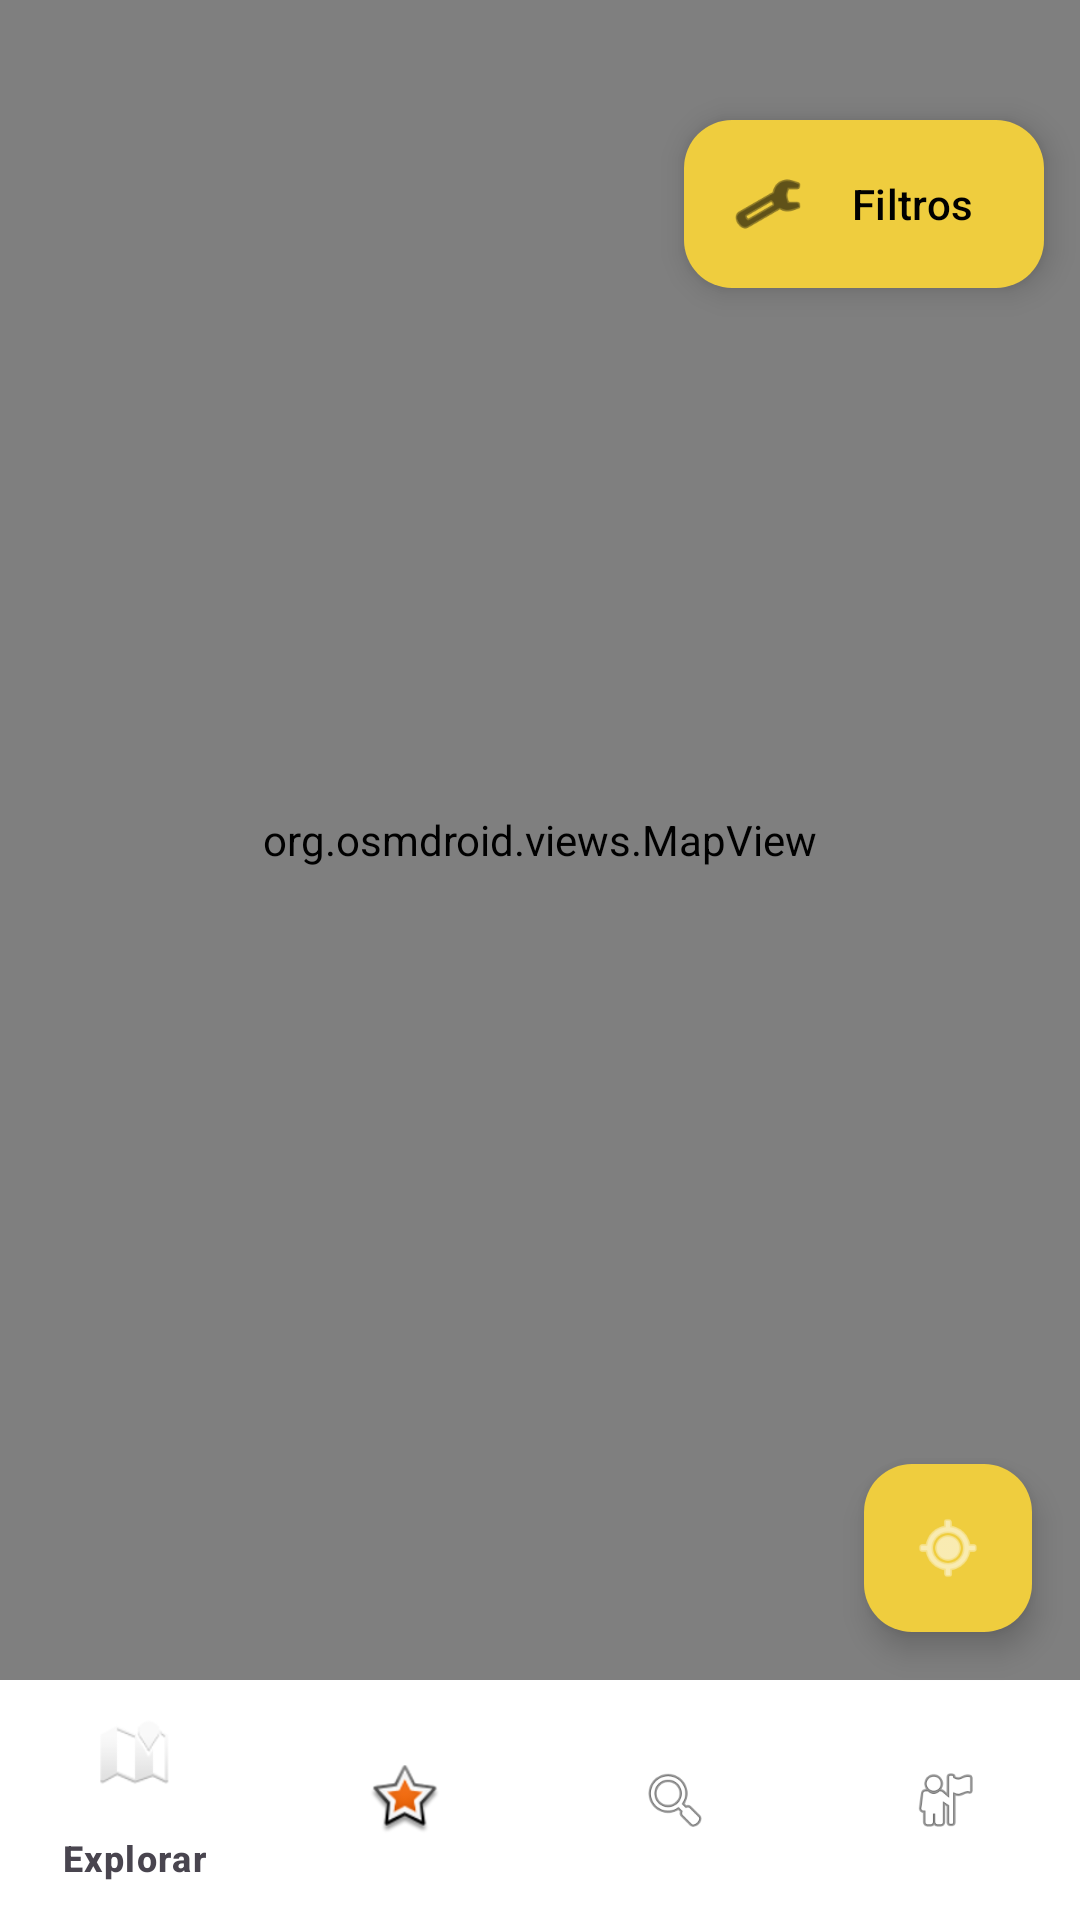

Icons on this 1080px x 1920px Android screen, each with the point to tap as [x,y]:
Mi ubicación: [948,1548]
